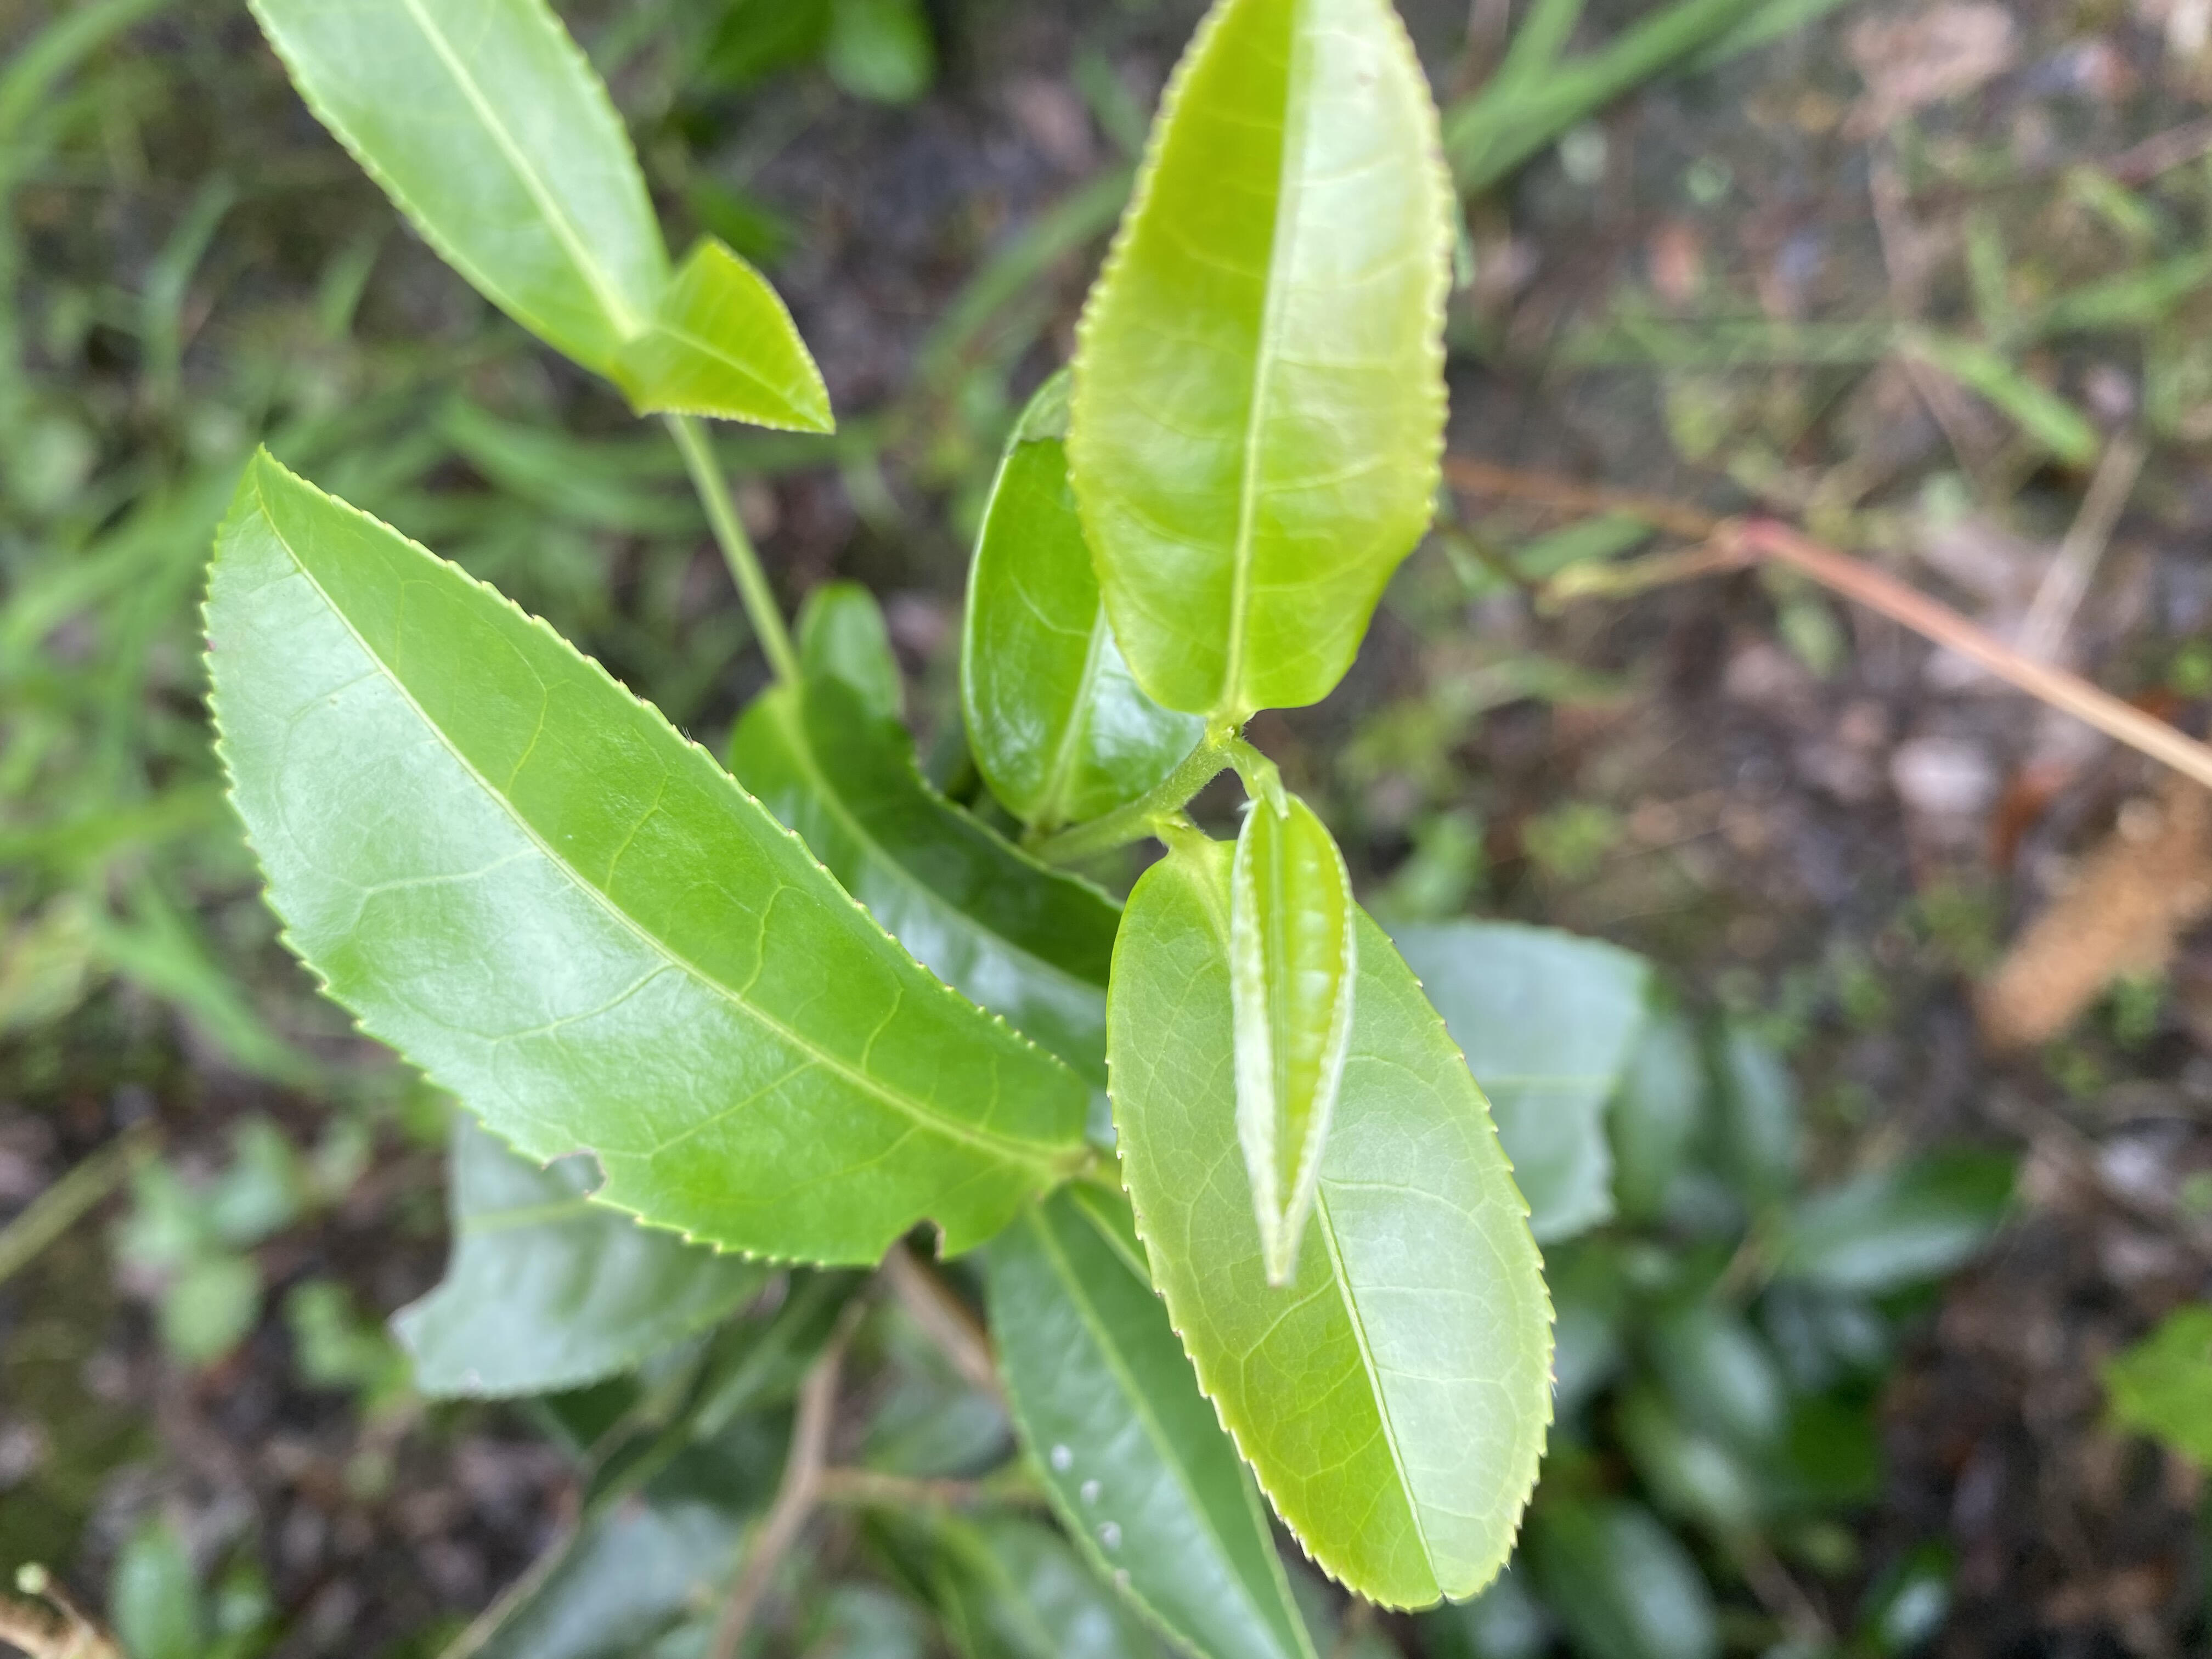chihuo_high: (200, 441, 1087, 1269)
healthy: (1106, 833, 1566, 1614), (1062, 5, 1467, 725), (247, 3, 665, 359), (1226, 795, 1355, 1288), (608, 242, 836, 439)
